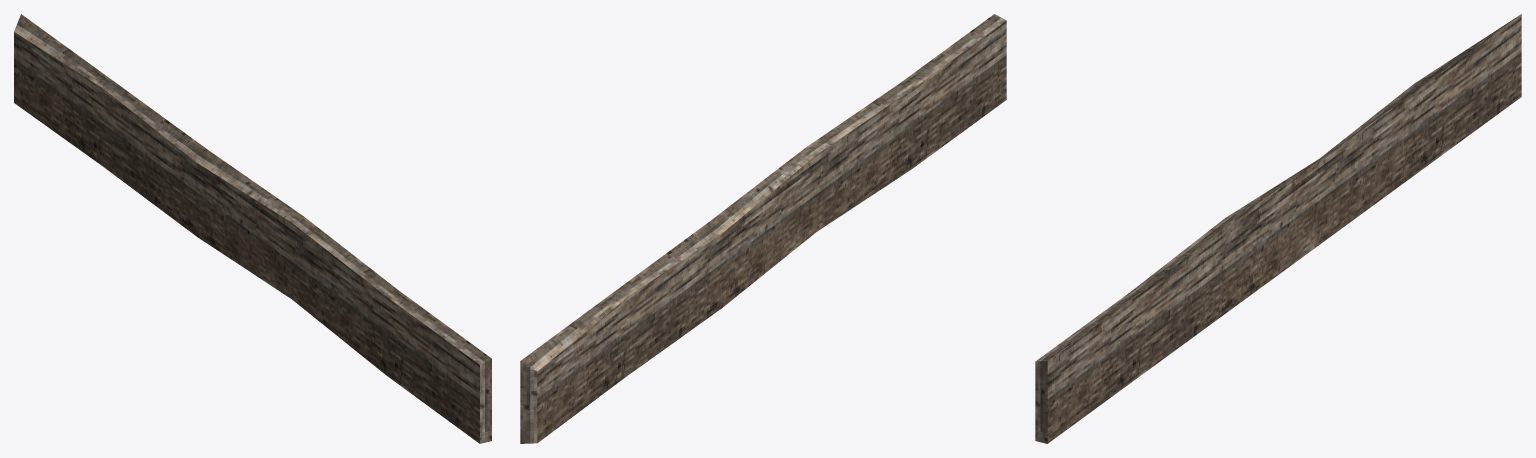
The model's file is _Plank_01.FBX.
3 renders of one model, left to right at view 1: azimuth 30°, elevation 25°; view 2: azimuth 150°, elevation 25°; view 3: azimuth 330°, elevation 25°, orthographic.
Visible parts, largest first — view 1: Box001; view 2: Box001; view 3: Box001.
Boxes of the visible parts, x1,y1,x2,y2 form: Box001: [14, 14, 491, 443]; Box001: [520, 14, 1006, 443]; Box001: [1035, 14, 1521, 443].
Size of the model in its own units: 1.84 by 12.74 by 125.
Materials: 1 (1 with a texture image).
